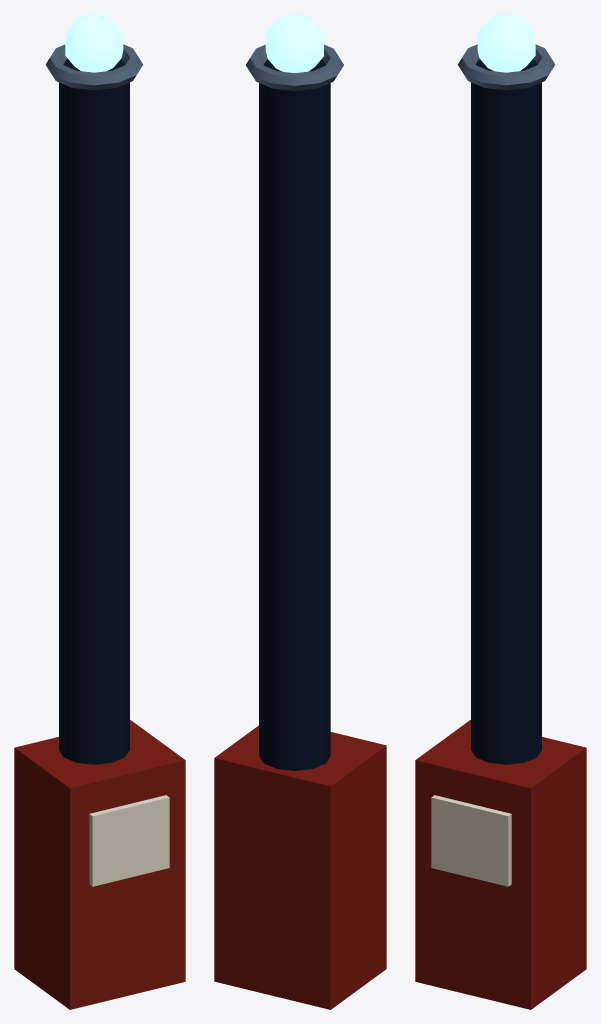
File: mail_tube.glb
The picture shows the model from 3 angles, left to right: view 1: azimuth 30°, elevation 25°; view 2: azimuth 150°, elevation 25°; view 3: azimuth 330°, elevation 25°; orthographic projection.
Parts seen in each view (by area): view 1: mail_tube; view 2: mail_tube; view 3: mail_tube.
Part boxes in pixels (bbox=[...]): mail_tube: bbox=[14, 14, 185, 1009]; mail_tube: bbox=[214, 14, 386, 1009]; mail_tube: bbox=[415, 14, 586, 1009].
Bounding box in the file's own units: 0.6 × 4.74 × 0.55.
